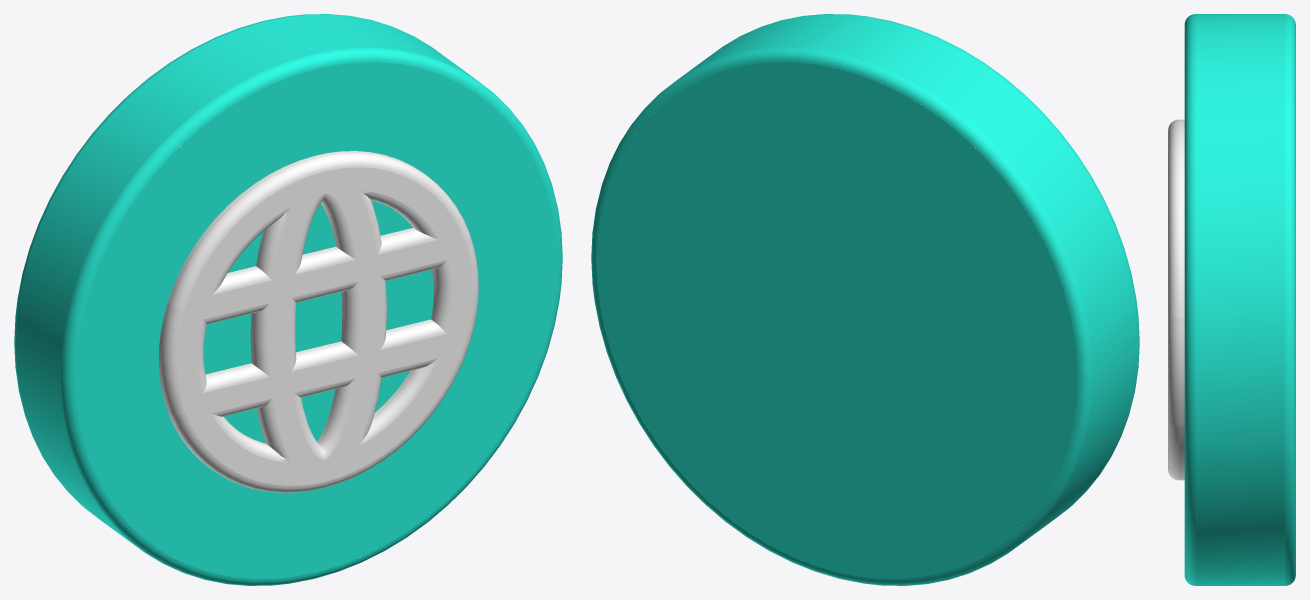
File: webDraco.gltf
3 views of the same model, side by side, from view 1: azimuth 30°, elevation 25°; view 2: azimuth 150°, elevation 25°; view 3: azimuth 270°, elevation 25° (orthographic).
Parts seen in each view (by area): view 1: キャップ 1 (×2), 丸み 1 (×2), Path (×2), 丸み 2; view 2: キャップ 2, Path, 丸み 2, 丸み 1; view 3: Path (×2), 丸み 1 (×2), 丸み 2.
Boxes of the visible parts, left/top/right/bottom form: キャップ 1 (×2): left=76, top=62, right=556, bottom=578; 丸み 1 (×2): left=61, top=47, right=562, bottom=585; Path (×2): left=15, top=14, right=474, bottom=550; 丸み 2: left=14, top=14, right=392, bottom=488; キャップ 2: left=597, top=62, right=1077, bottom=578; Path: left=679, top=14, right=1138, bottom=550; 丸み 2: left=591, top=47, right=1092, bottom=585; 丸み 1: left=761, top=14, right=1139, bottom=488; Path (×2): left=1179, top=14, right=1284, bottom=585; 丸み 1 (×2): left=1168, top=14, right=1195, bottom=585; 丸み 2: left=1285, top=14, right=1295, bottom=585.
Bounding box in the file's own units: 0.0416 × 0.0416 × 0.0093.
